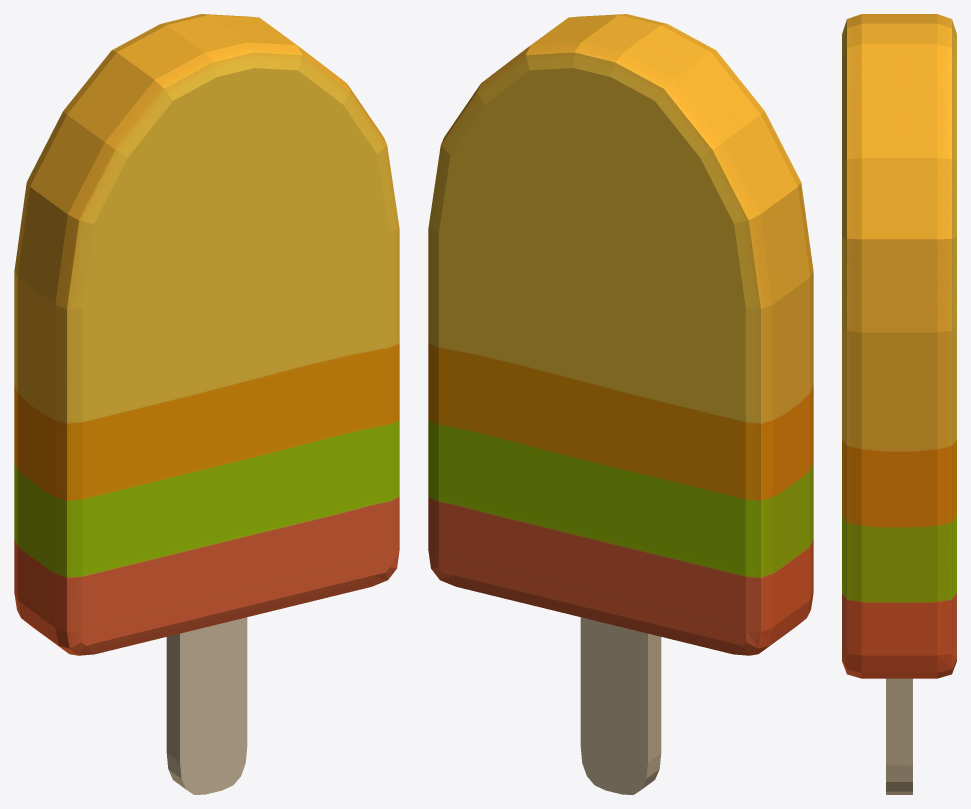
The model's file is icecream.fbx.
3 views of the same model, side by side, from view 1: azimuth 30°, elevation 25°; view 2: azimuth 150°, elevation 25°; view 3: azimuth 270°, elevation 25° (orthographic).
Parts seen in each view (by area): view 1: icecream; view 2: icecream; view 3: icecream.
Boxes of the visible parts, <box> form: icecream: <box>14,14,399,794</box>; icecream: <box>428,14,813,794</box>; icecream: <box>842,14,956,794</box>.
Bounding box in the file's own units: 21.74 × 45.93 × 6.34.
